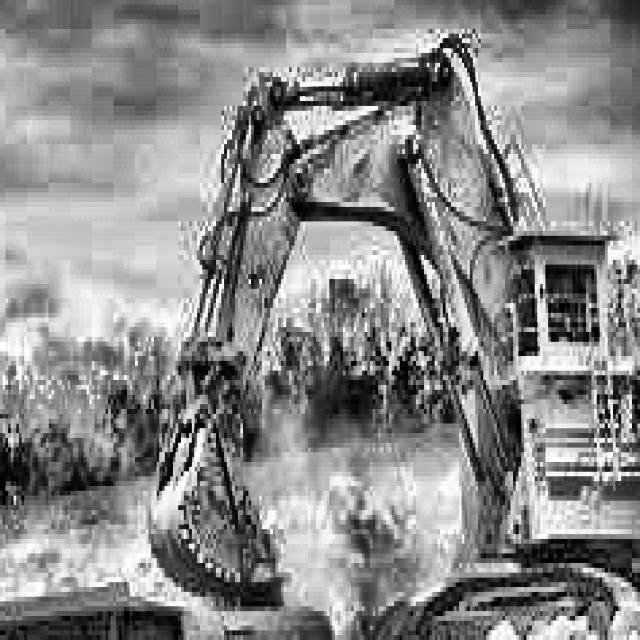excavator: (170, 19, 640, 640)
